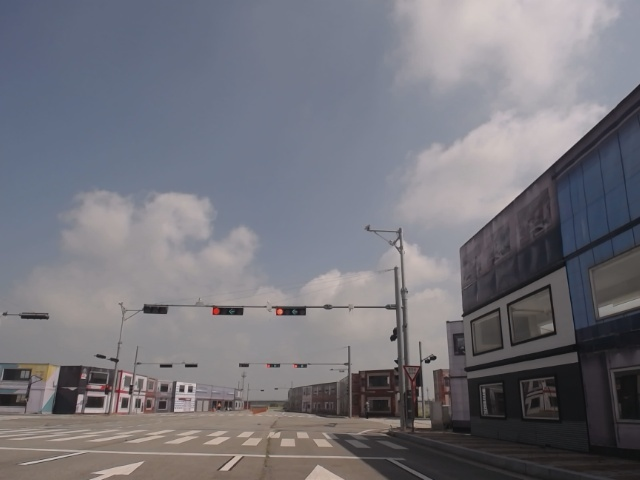left_green_4: (212, 307, 244, 316)
